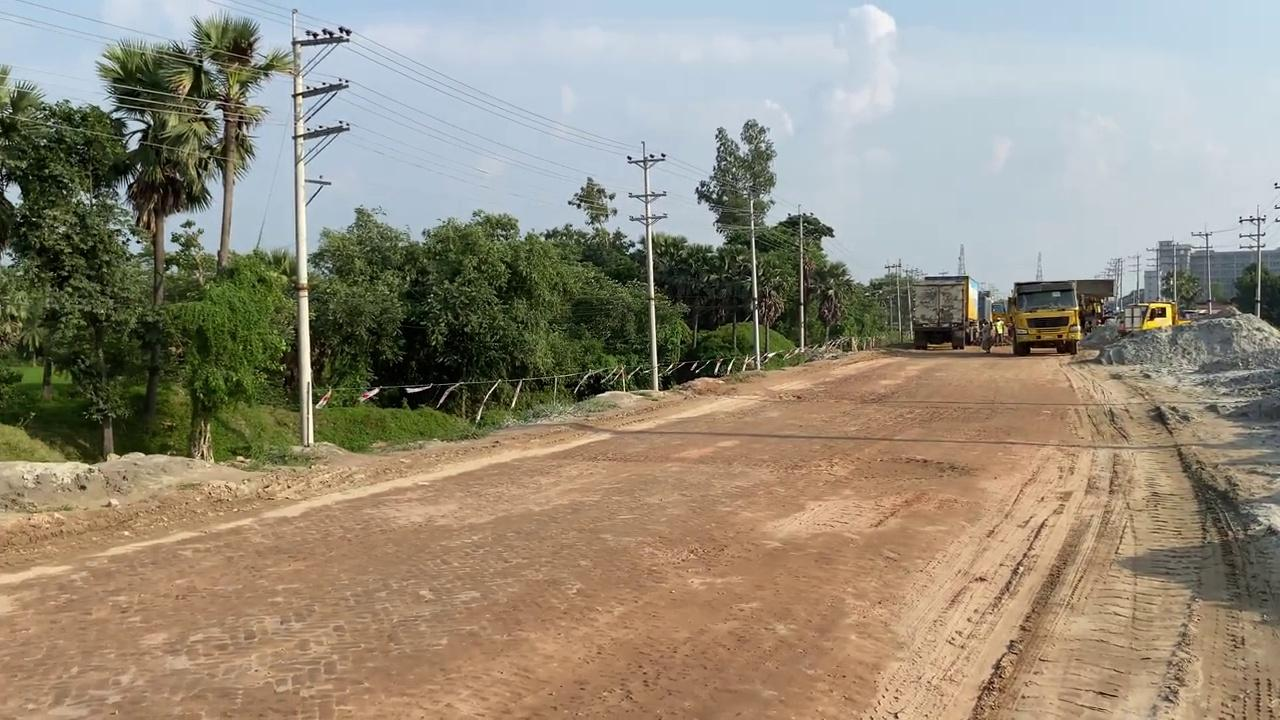Muddy road: (2, 339, 1277, 718)
Pole: (289, 9, 314, 447), (626, 141, 667, 391), (746, 189, 762, 370), (796, 206, 806, 351)
Traffic-sign: (93, 36, 228, 440), (694, 117, 778, 369)
Tree: (909, 274, 978, 350), (1011, 282, 1079, 356), (1116, 301, 1190, 336)
